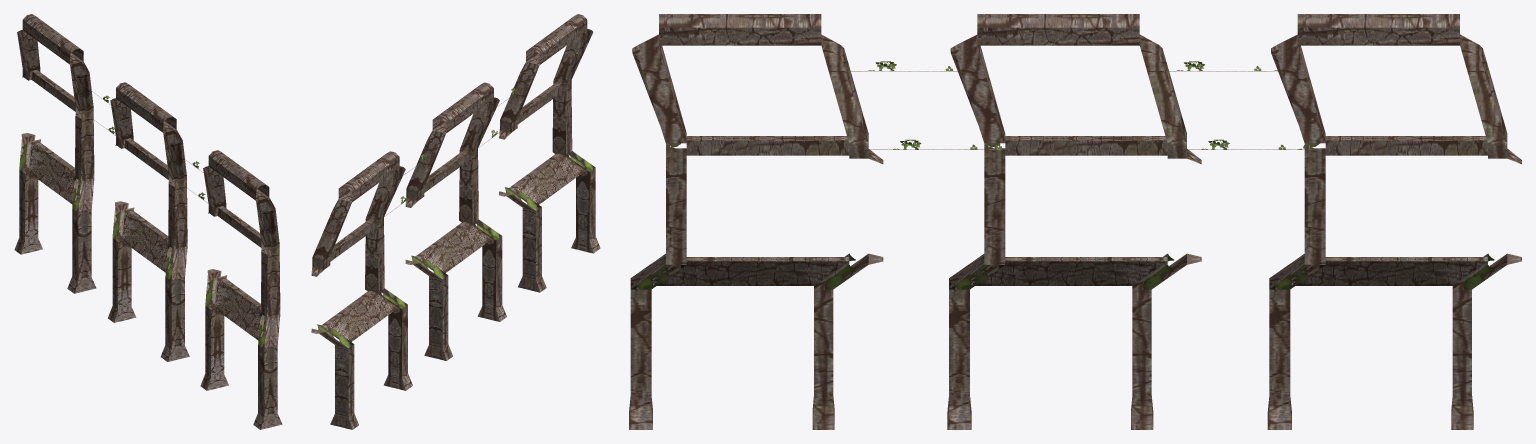
Rendered from Bord_3_pyl_M.FBX.
3 renders of one model, left to right at view 1: azimuth 30°, elevation 25°; view 2: azimuth 150°, elevation 25°; view 3: azimuth 270°, elevation 25°, orthographic. The views are drawn at different scales.
Parts seen in each view (by area): view 1: Bord_3_pyl_M; view 2: Bord_3_pyl_M; view 3: Bord_3_pyl_M.
Boxes of the visible parts, x1,y1,x2,y2 form: Bord_3_pyl_M: (14, 14, 282, 429); Bord_3_pyl_M: (311, 14, 600, 429); Bord_3_pyl_M: (629, 14, 1521, 429).
Bounding box in the file's own units: 0.2654 × 3.88 × 1.94.
